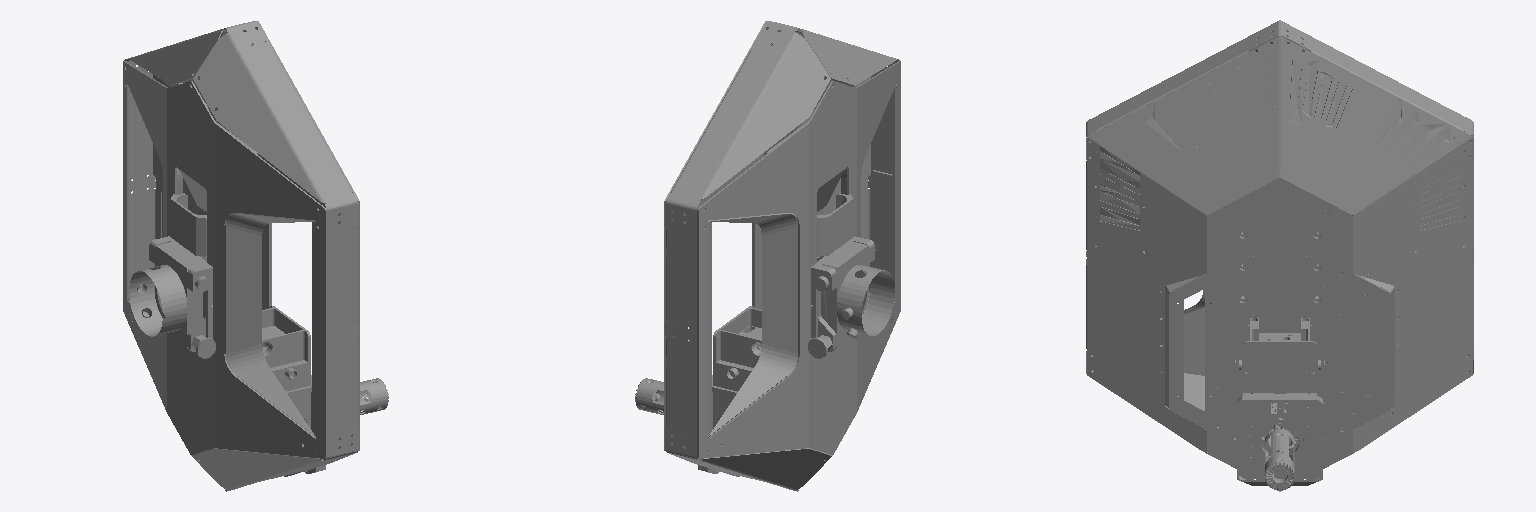
URDF robot description (reduced_pillar):
<?xml version="1.0" encoding="utf-8"?>
<!-- This URDF was automatically created by SolidWorks to URDF Exporter! Originally created by Stephen Brawner (brawner@gmail.com) 
     Commit Version: 1.6.0-4-g7f85cfe  Build Version: 1.6.7995.38578
     For more information, please see http://wiki.ros.org/sw_urdf_exporter -->
<robot
  name="reduced_pillar">
  <link
    name="pillar_link">
    <inertial>
      <origin
        xyz="-0.0680656825580486 -0.209477451814901 0.315581222490576"
        rpy="0 0 0" />
      <mass
        value="1.07381816035563E-12" />
      <inertia
        ixx="0"
        ixy="0"
        ixz="0"
        iyy="0"
        iyz="0"
        izz="0" />
    </inertial>
    <visual>
      <origin
        xyz="0 0 0"
        rpy="0 0 0" />
      <geometry>
        <mesh
          filename="package://reduced_pillar/meshes/pillar_link.STL" />
      </geometry>
      <material
        name="">
        <color
          rgba="0.627450980392157 0.627450980392157 0.627450980392157 1" />
      </material>
    </visual>
    <collision>
      <origin
        xyz="0 0 0"
        rpy="0 0 0" />
      <geometry>
        <mesh
          filename="package://reduced_pillar/meshes/pillar_link.STL" />
      </geometry>
    </collision>
  </link>
</robot>

--- What the picture shows (computed from the rendered views, not written in the file) ---
The picture shows the robot from 3 angles, left to right: view 1: azimuth 30°, elevation 25°; view 2: azimuth 150°, elevation 25°; view 3: azimuth 270°, elevation 25°; orthographic projection.
Model reduced_pillar with 1 links and 0 joints (none), rooted at pillar_link, posed every joint at zero.
Visible links, largest first — view 1: pillar_link; view 2: pillar_link; view 3: pillar_link.
Link boxes in pixels (<box>): pillar_link: <box>123,21,388,491</box>; pillar_link: <box>635,21,900,491</box>; pillar_link: <box>1086,20,1473,491</box>.
Bounding box of the posed robot: 0.3037 × 0.453 × 0.5687 m (x, y, z).
Meshes: 1 distinct files referenced, 1 mesh visuals loaded (1 binary STL).
